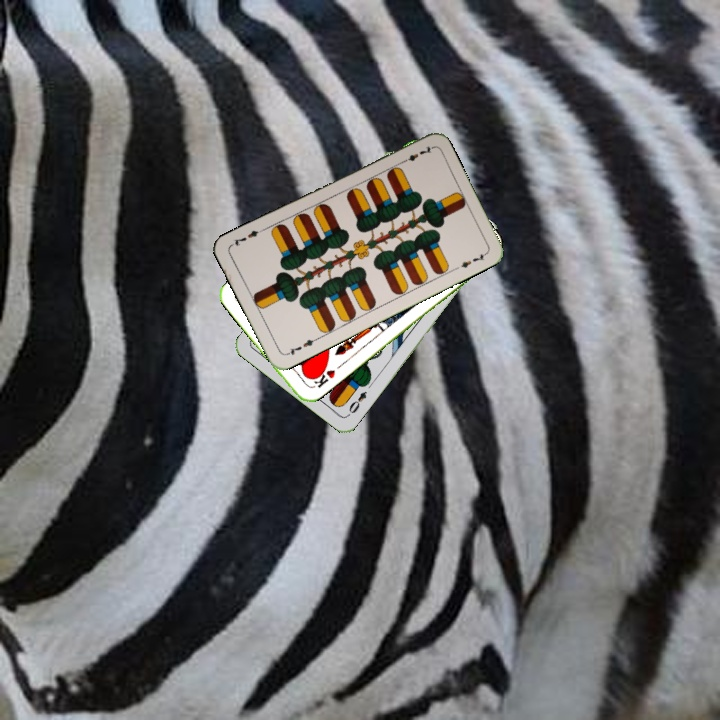E7: (282, 334, 320, 358), (397, 142, 435, 166)
EO: (344, 387, 369, 419)
HK: (307, 363, 338, 390)
